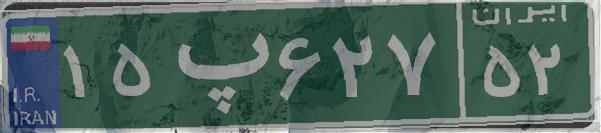1: (57, 26, 110, 107)
2: (330, 28, 385, 110), (525, 38, 570, 115)
5: (475, 38, 525, 113), (110, 28, 158, 105)
6: (273, 28, 330, 110)
7: (385, 28, 445, 110)
پ: (158, 15, 273, 115)
